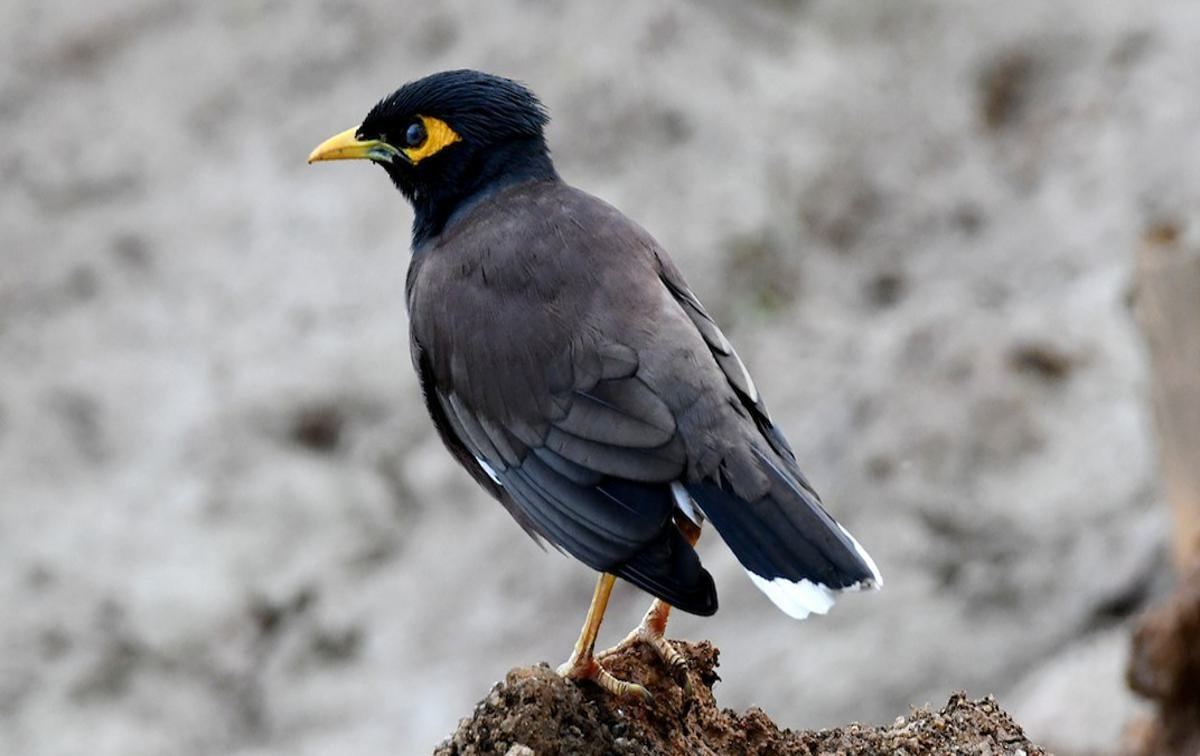myna: (318, 54, 838, 693)
